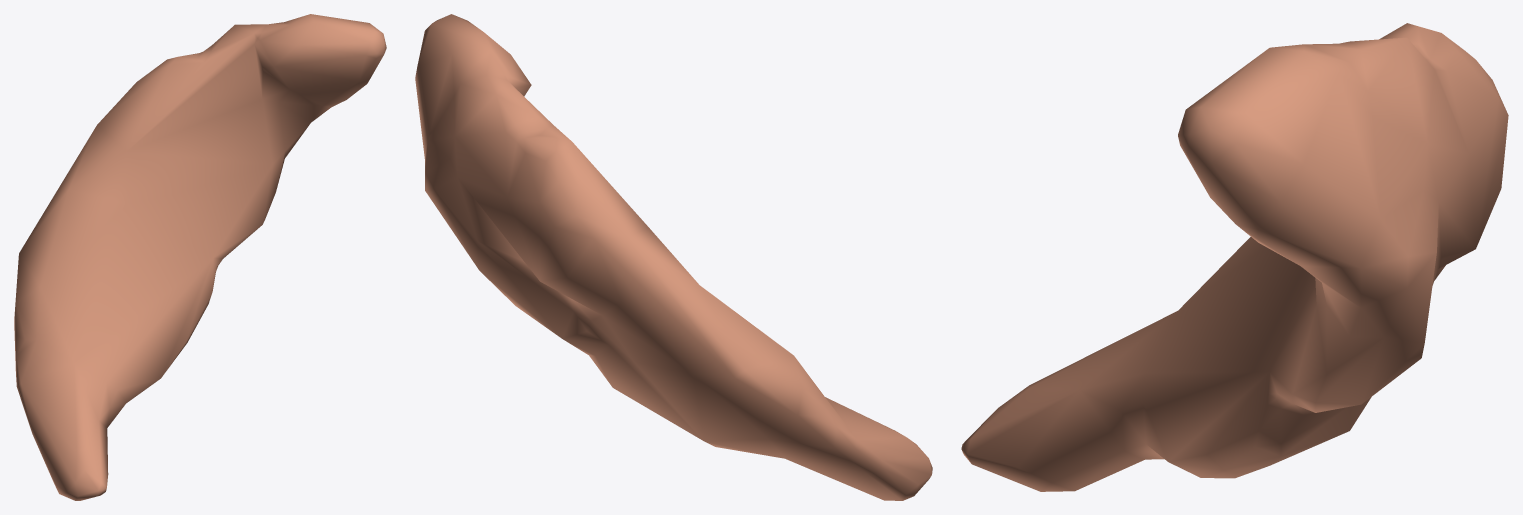
File: seminal-gland-l.glb
3 views of the same model, side by side, from view 1: azimuth 30°, elevation 25°; view 2: azimuth 150°, elevation 25°; view 3: azimuth 270°, elevation 25° (orthographic). The views are drawn at different scales.
Visible parts, largest first — view 1: Seminal gland.l; view 2: Seminal gland.l; view 3: Seminal gland.l.
Boxes of the visible parts, x1,y1,x2,y2 form: Seminal gland.l: (14,14,386,500); Seminal gland.l: (415,14,932,500); Seminal gland.l: (961,23,1508,491).
Bounding box in the file's own units: 0.0329 × 0.0306 × 0.021.
